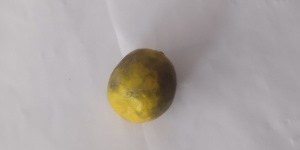BAD: (107, 48, 181, 126)
